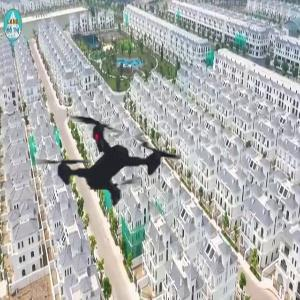drone: (9, 59, 212, 262)
